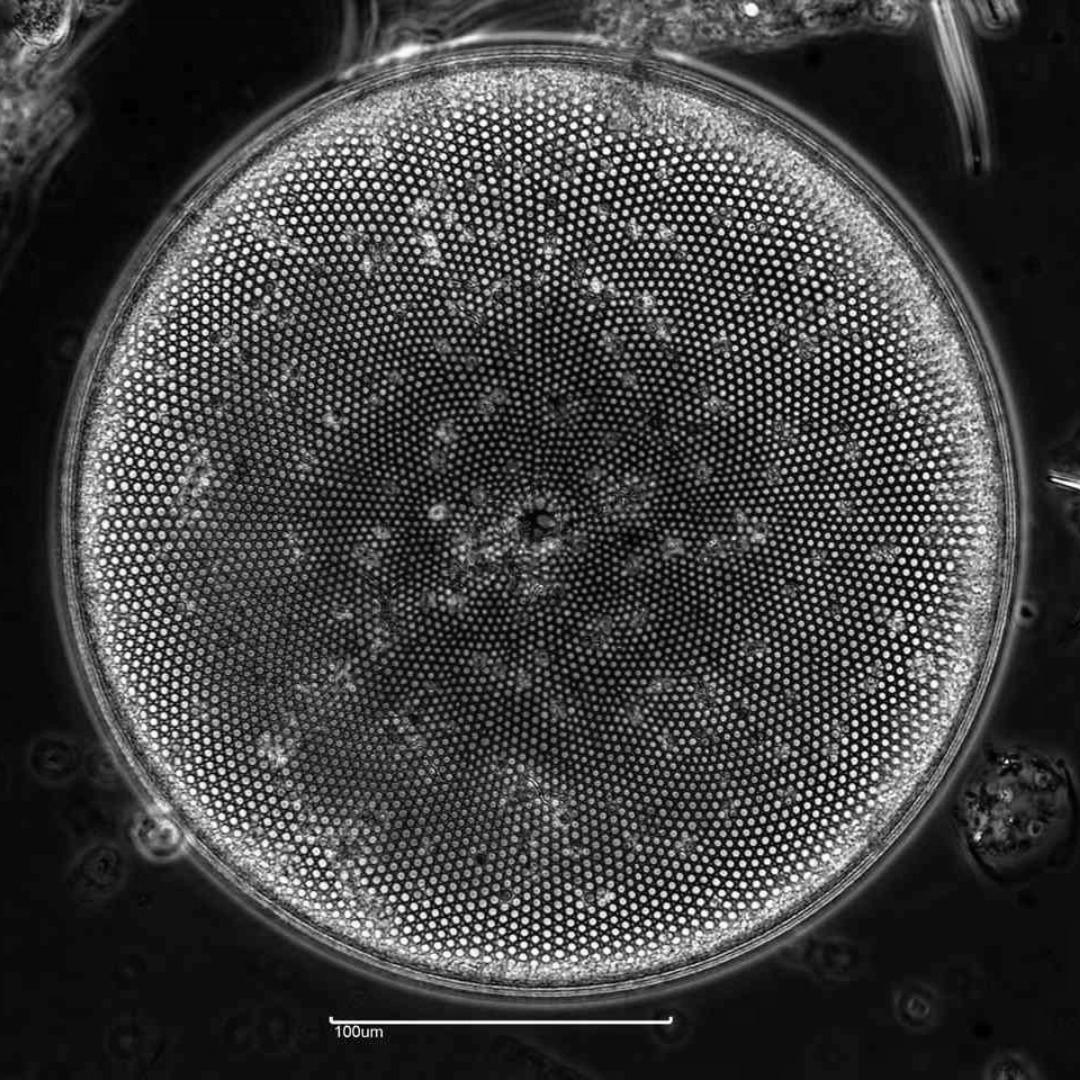coscinodiscus_oculus_iridis: (54, 38, 1020, 999)
